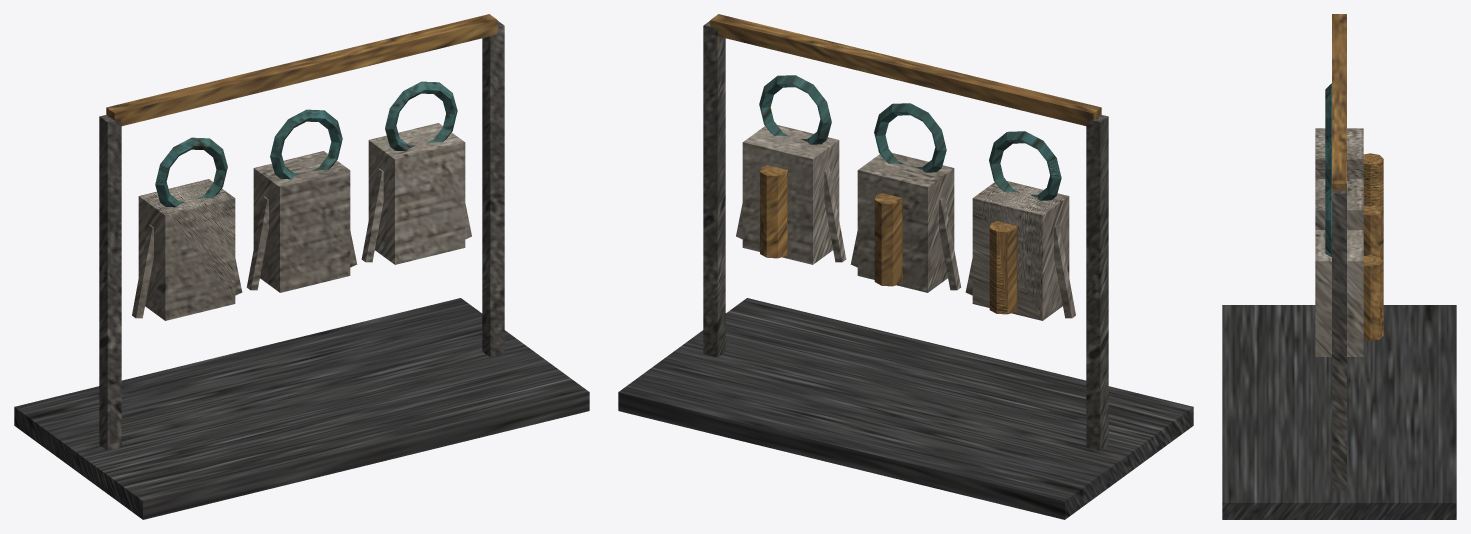
The model's file is east-suit-cache-rack.glb.
3 renders of one model, left to right at view 1: azimuth 30°, elevation 25°; view 2: azimuth 150°, elevation 25°; view 3: azimuth 270°, elevation 25°, orthographic. The views are drawn at different scales.
Parts seen in each view (by area): view 1: east-suit-cache-rack; view 2: east-suit-cache-rack; view 3: east-suit-cache-rack.
Boxes of the visible parts, <box> form: east-suit-cache-rack: <box>14,14,589,519</box>; east-suit-cache-rack: <box>618,14,1193,519</box>; east-suit-cache-rack: <box>1222,14,1456,519</box>.
Size of the model in its own units: 7 by 5.31 by 3.5.
1 material, 1 textured.
